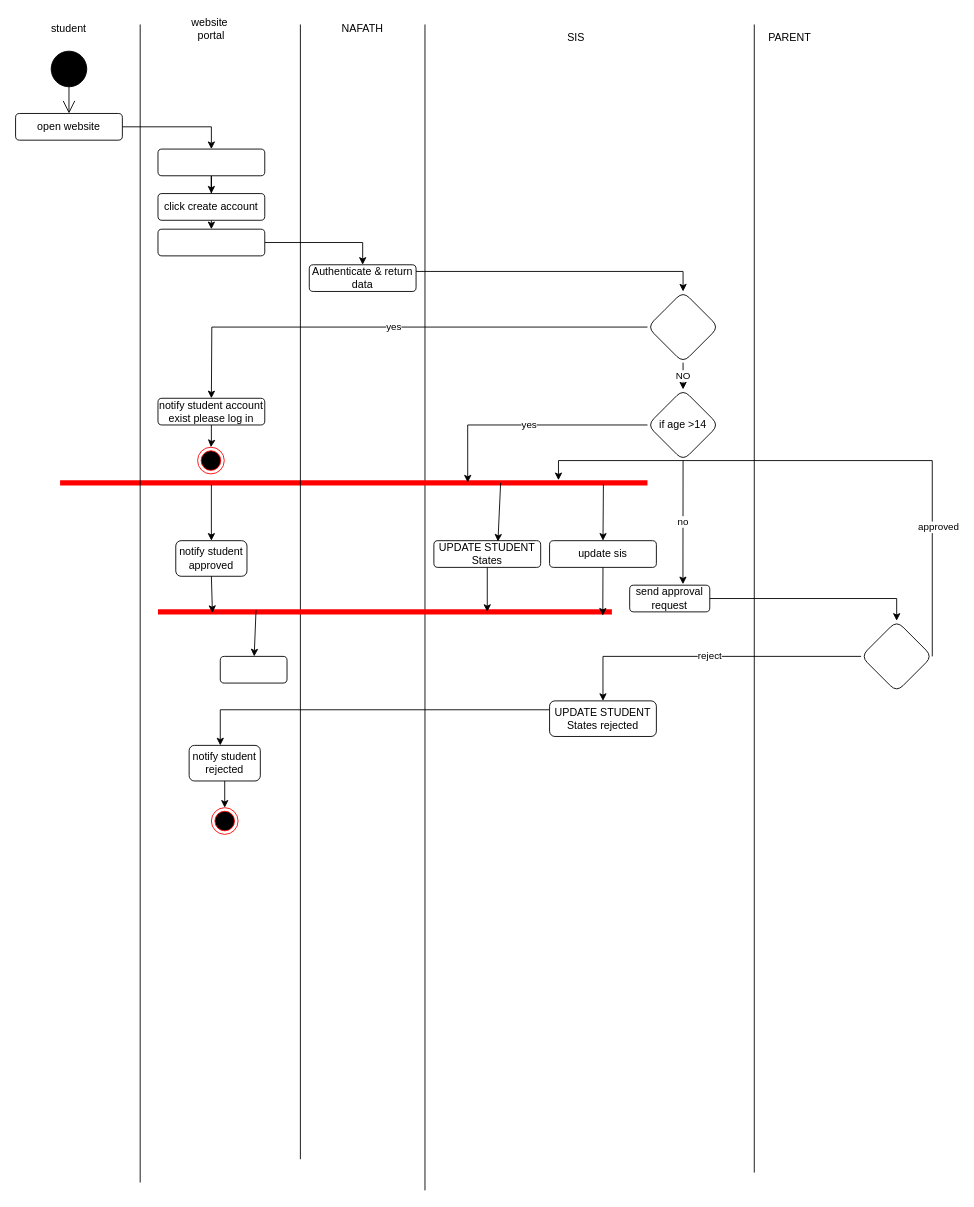
This 974x1207 diagram has some shape labels left out. Here are the shapes that lost their labels. From the top down, the box of each, then its label:
(157, 148, 265, 176): select language
(157, 228, 265, 256): redirect to NAFATH
(647, 291, 719, 363): check if account exist
(219, 655, 287, 683): create account
(860, 620, 932, 692): parent responed
